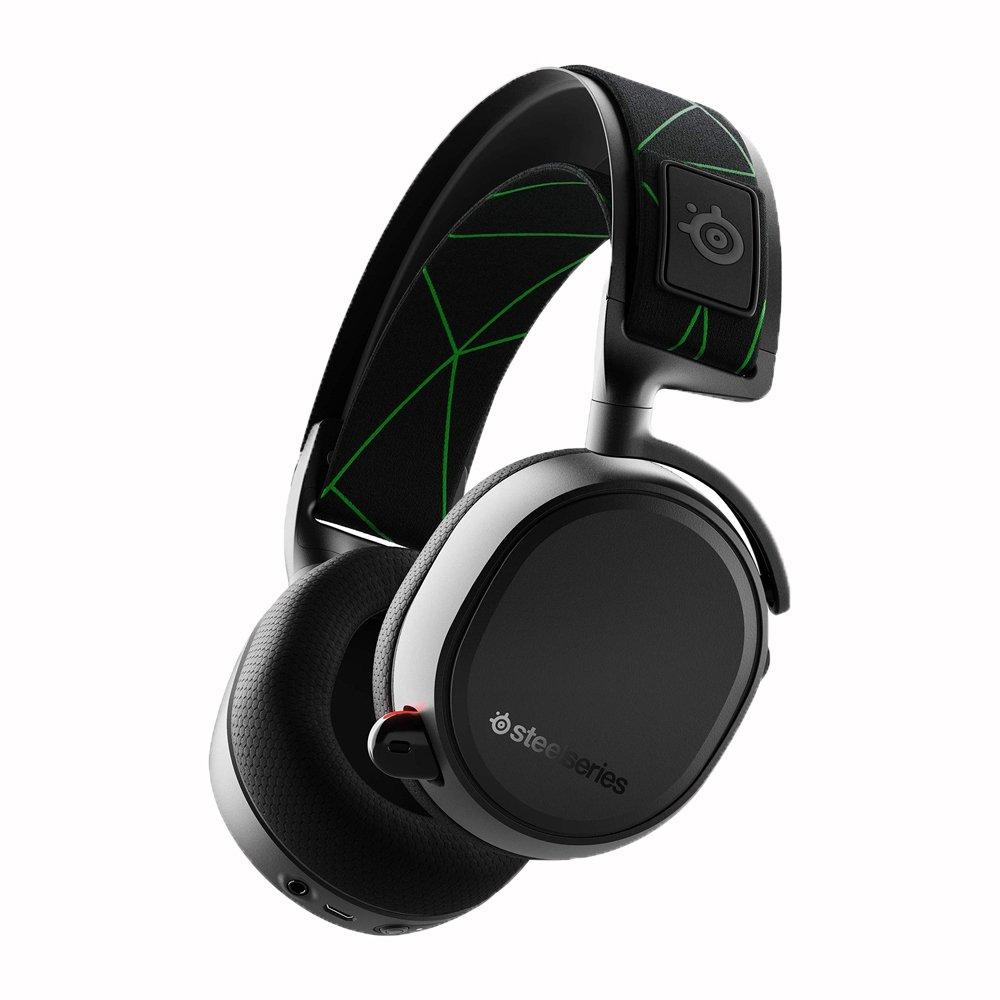Headset: (183, 30, 816, 961)
